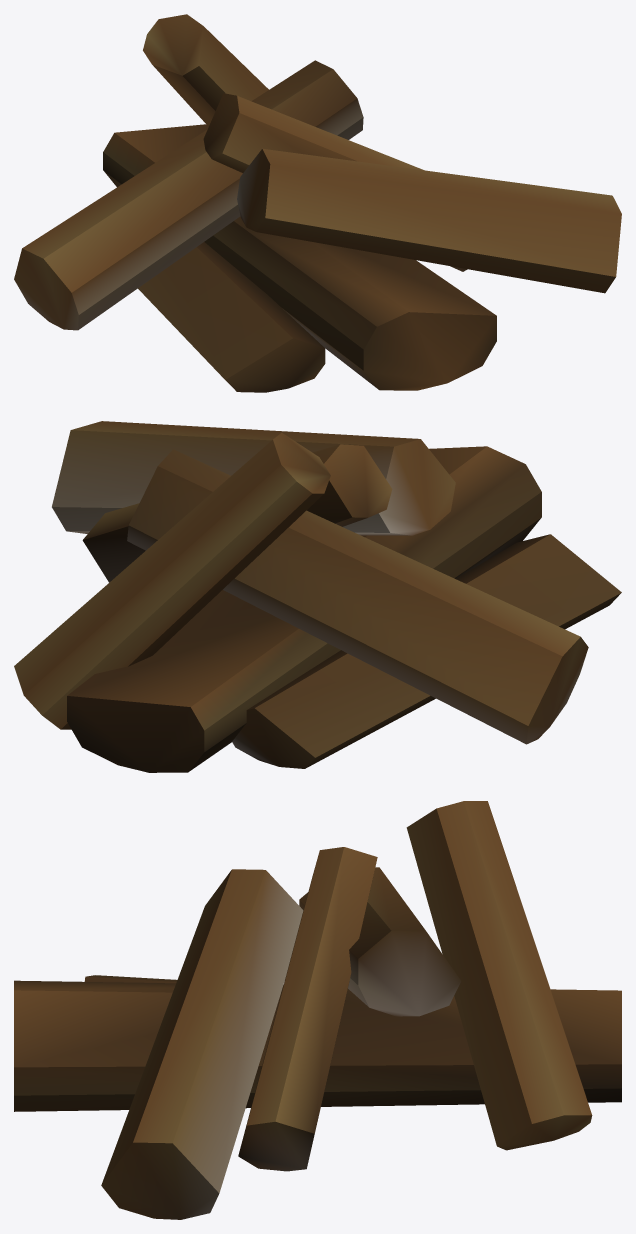
File: Fire.fbx
3 renders of one model, top to bottom at view 1: azimuth 30°, elevation 25°; view 2: azimuth 150°, elevation 25°; view 3: azimuth 270°, elevation 25°, orthographic. The views are drawn at different scales.
Parts seen in each view (by area): view 1: Fire; view 2: Fire; view 3: Fire.
Part boxes in pixels (x1,y1,x2,y2): Fire: [14, 14, 621, 392]; Fire: [14, 421, 621, 772]; Fire: [14, 801, 621, 1219].
Bounding box in the file's own units: 303 × 141 × 284.
